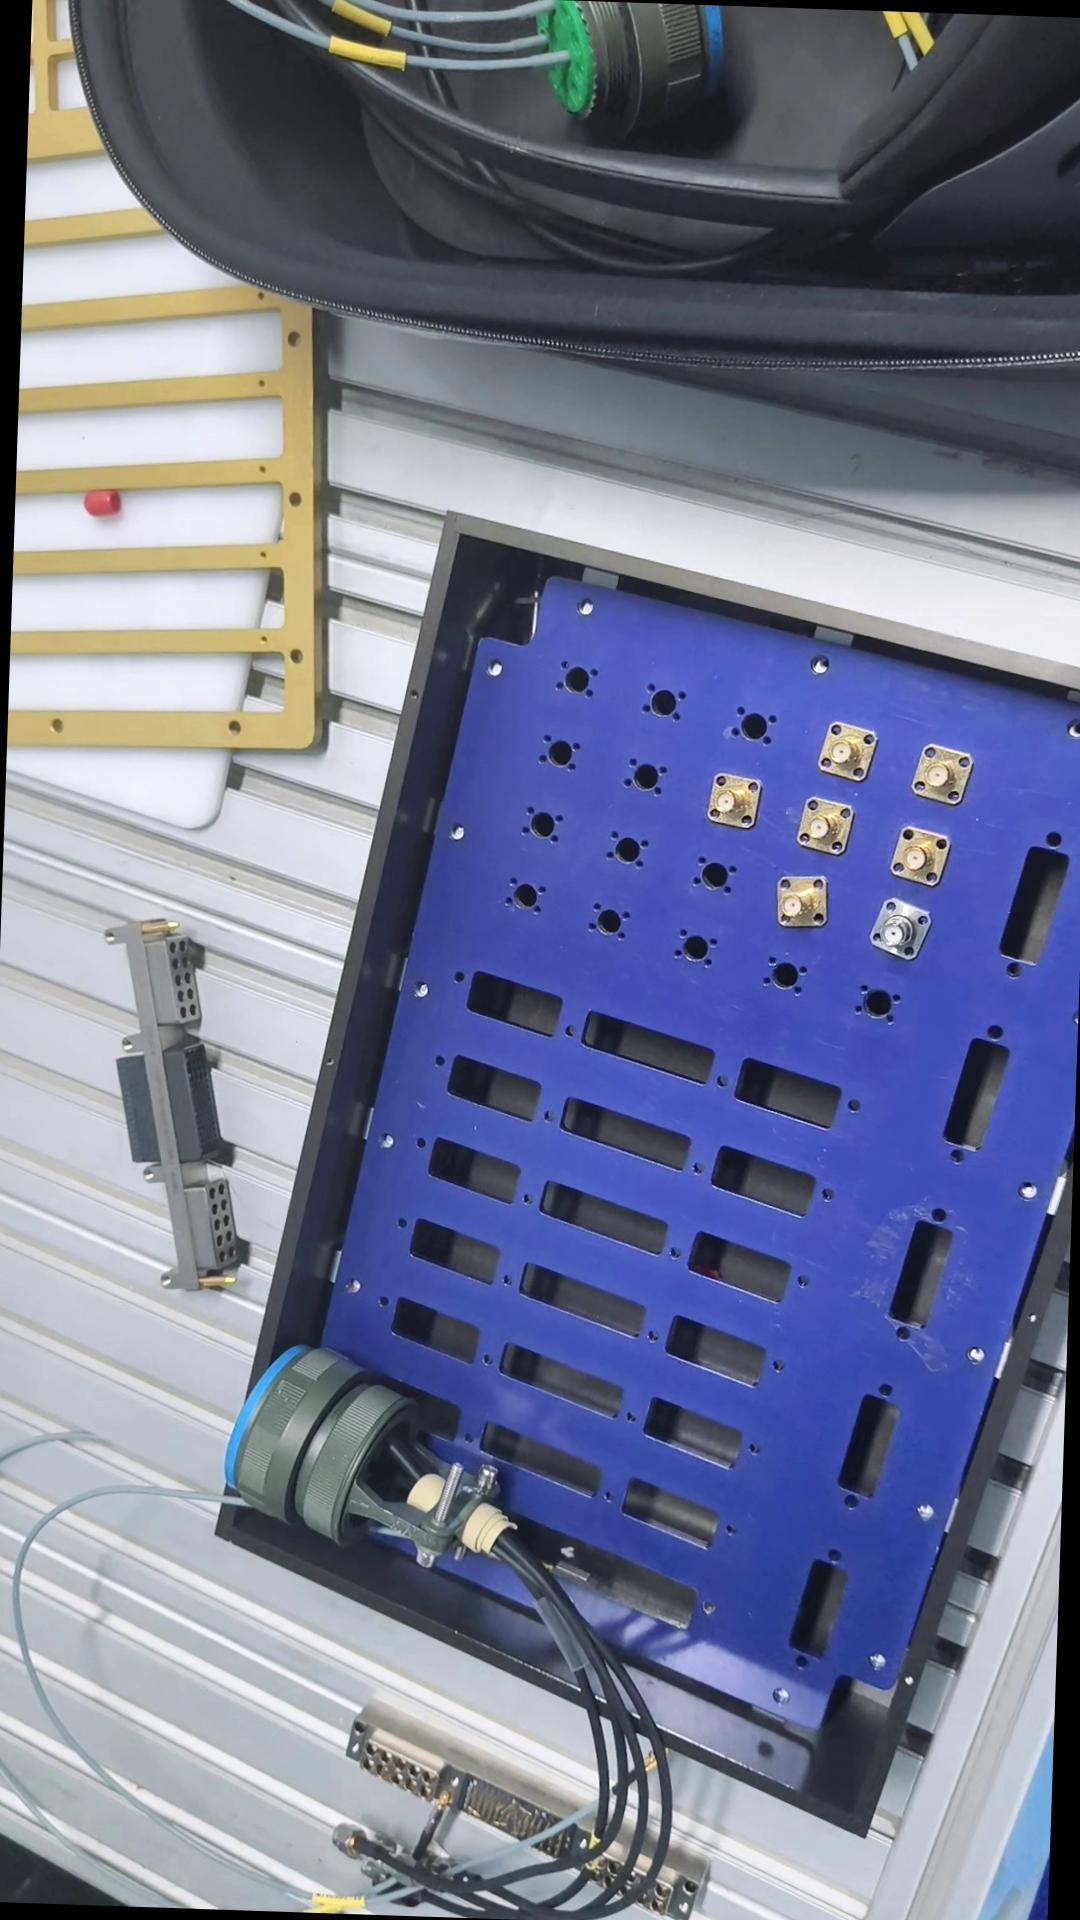SMA: (808, 721, 880, 783), (905, 742, 975, 804), (764, 869, 829, 934), (885, 829, 949, 889), (698, 769, 764, 827), (866, 897, 927, 957), (793, 798, 851, 856)
